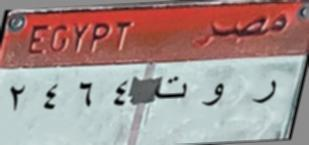2: (8, 81, 29, 114)
4: (42, 82, 63, 116), (112, 78, 130, 112)
6: (75, 77, 96, 113)
raa: (248, 75, 280, 108)
taa: (152, 74, 188, 107)
waw: (200, 79, 228, 113)
